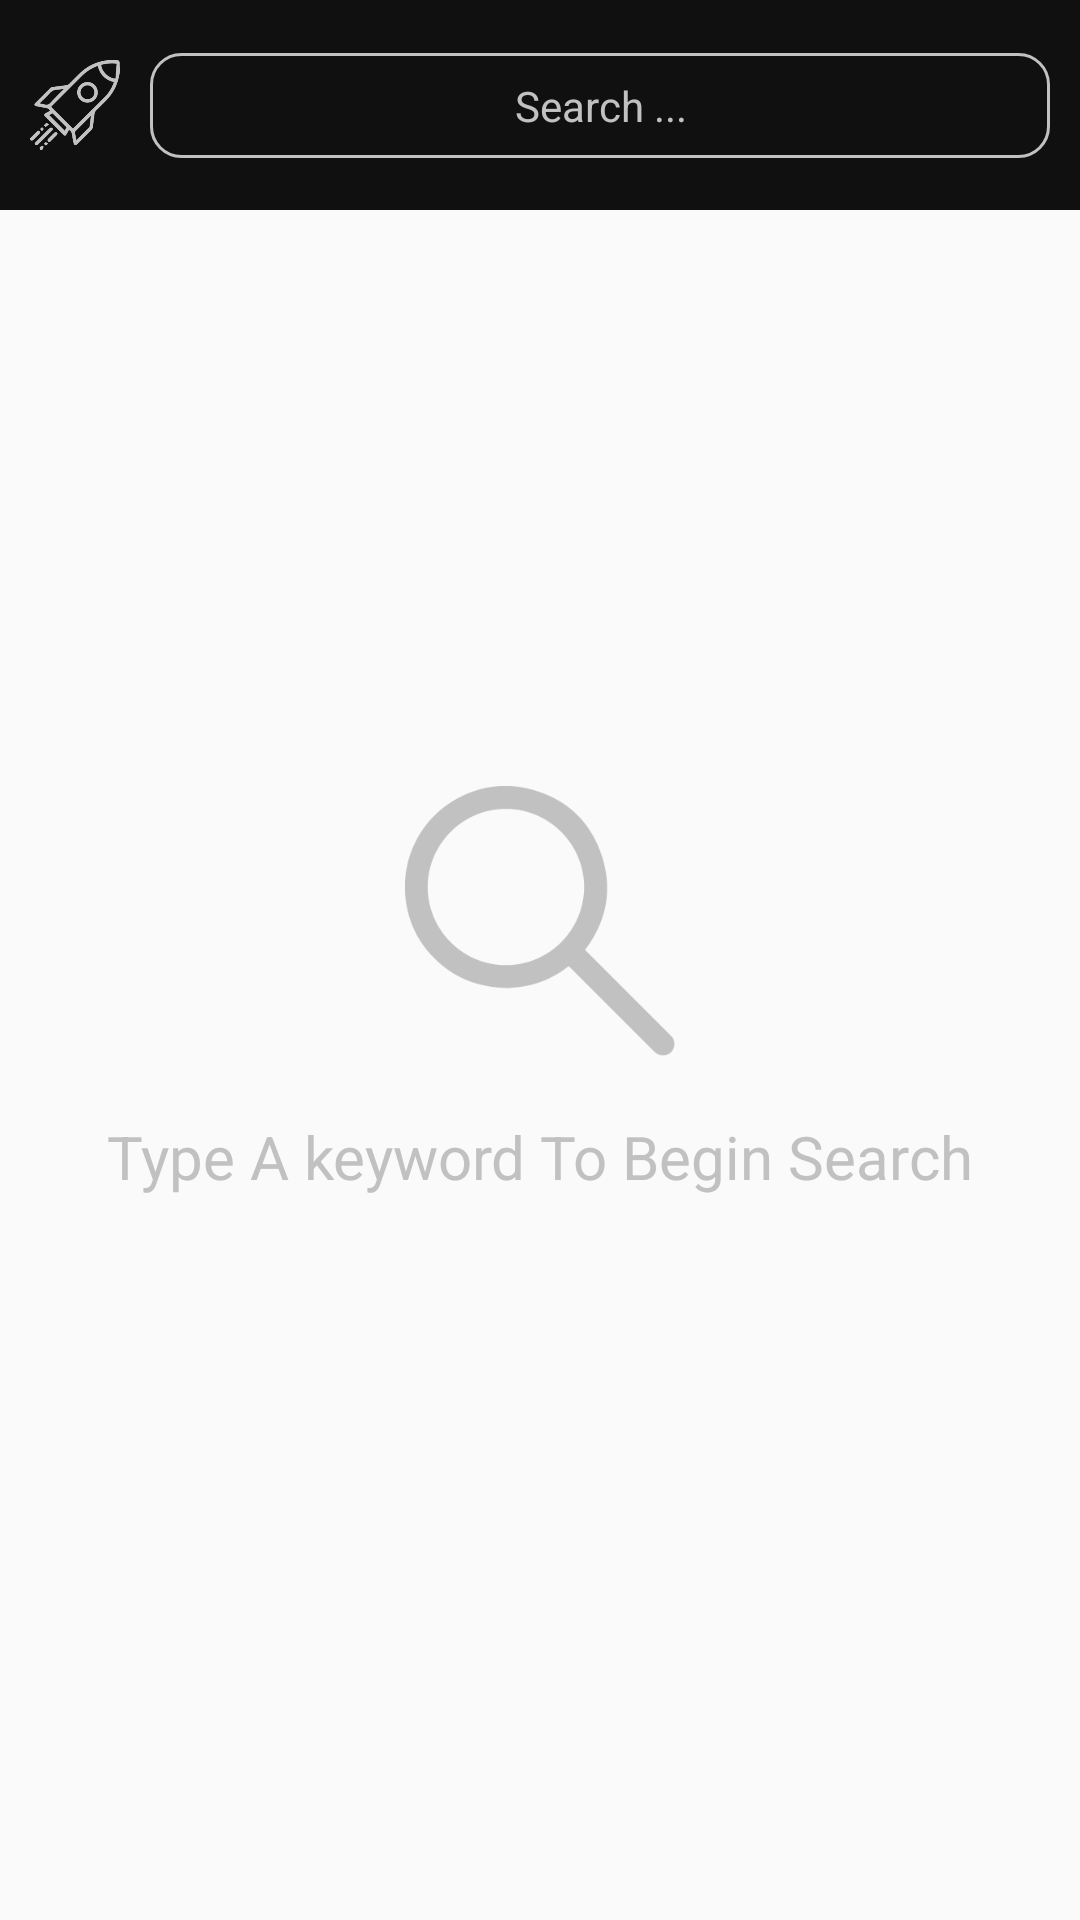

Screen size 1080×1920. Icon name, then its center in pixels as point (x, y):
rocket: point (75, 105)
